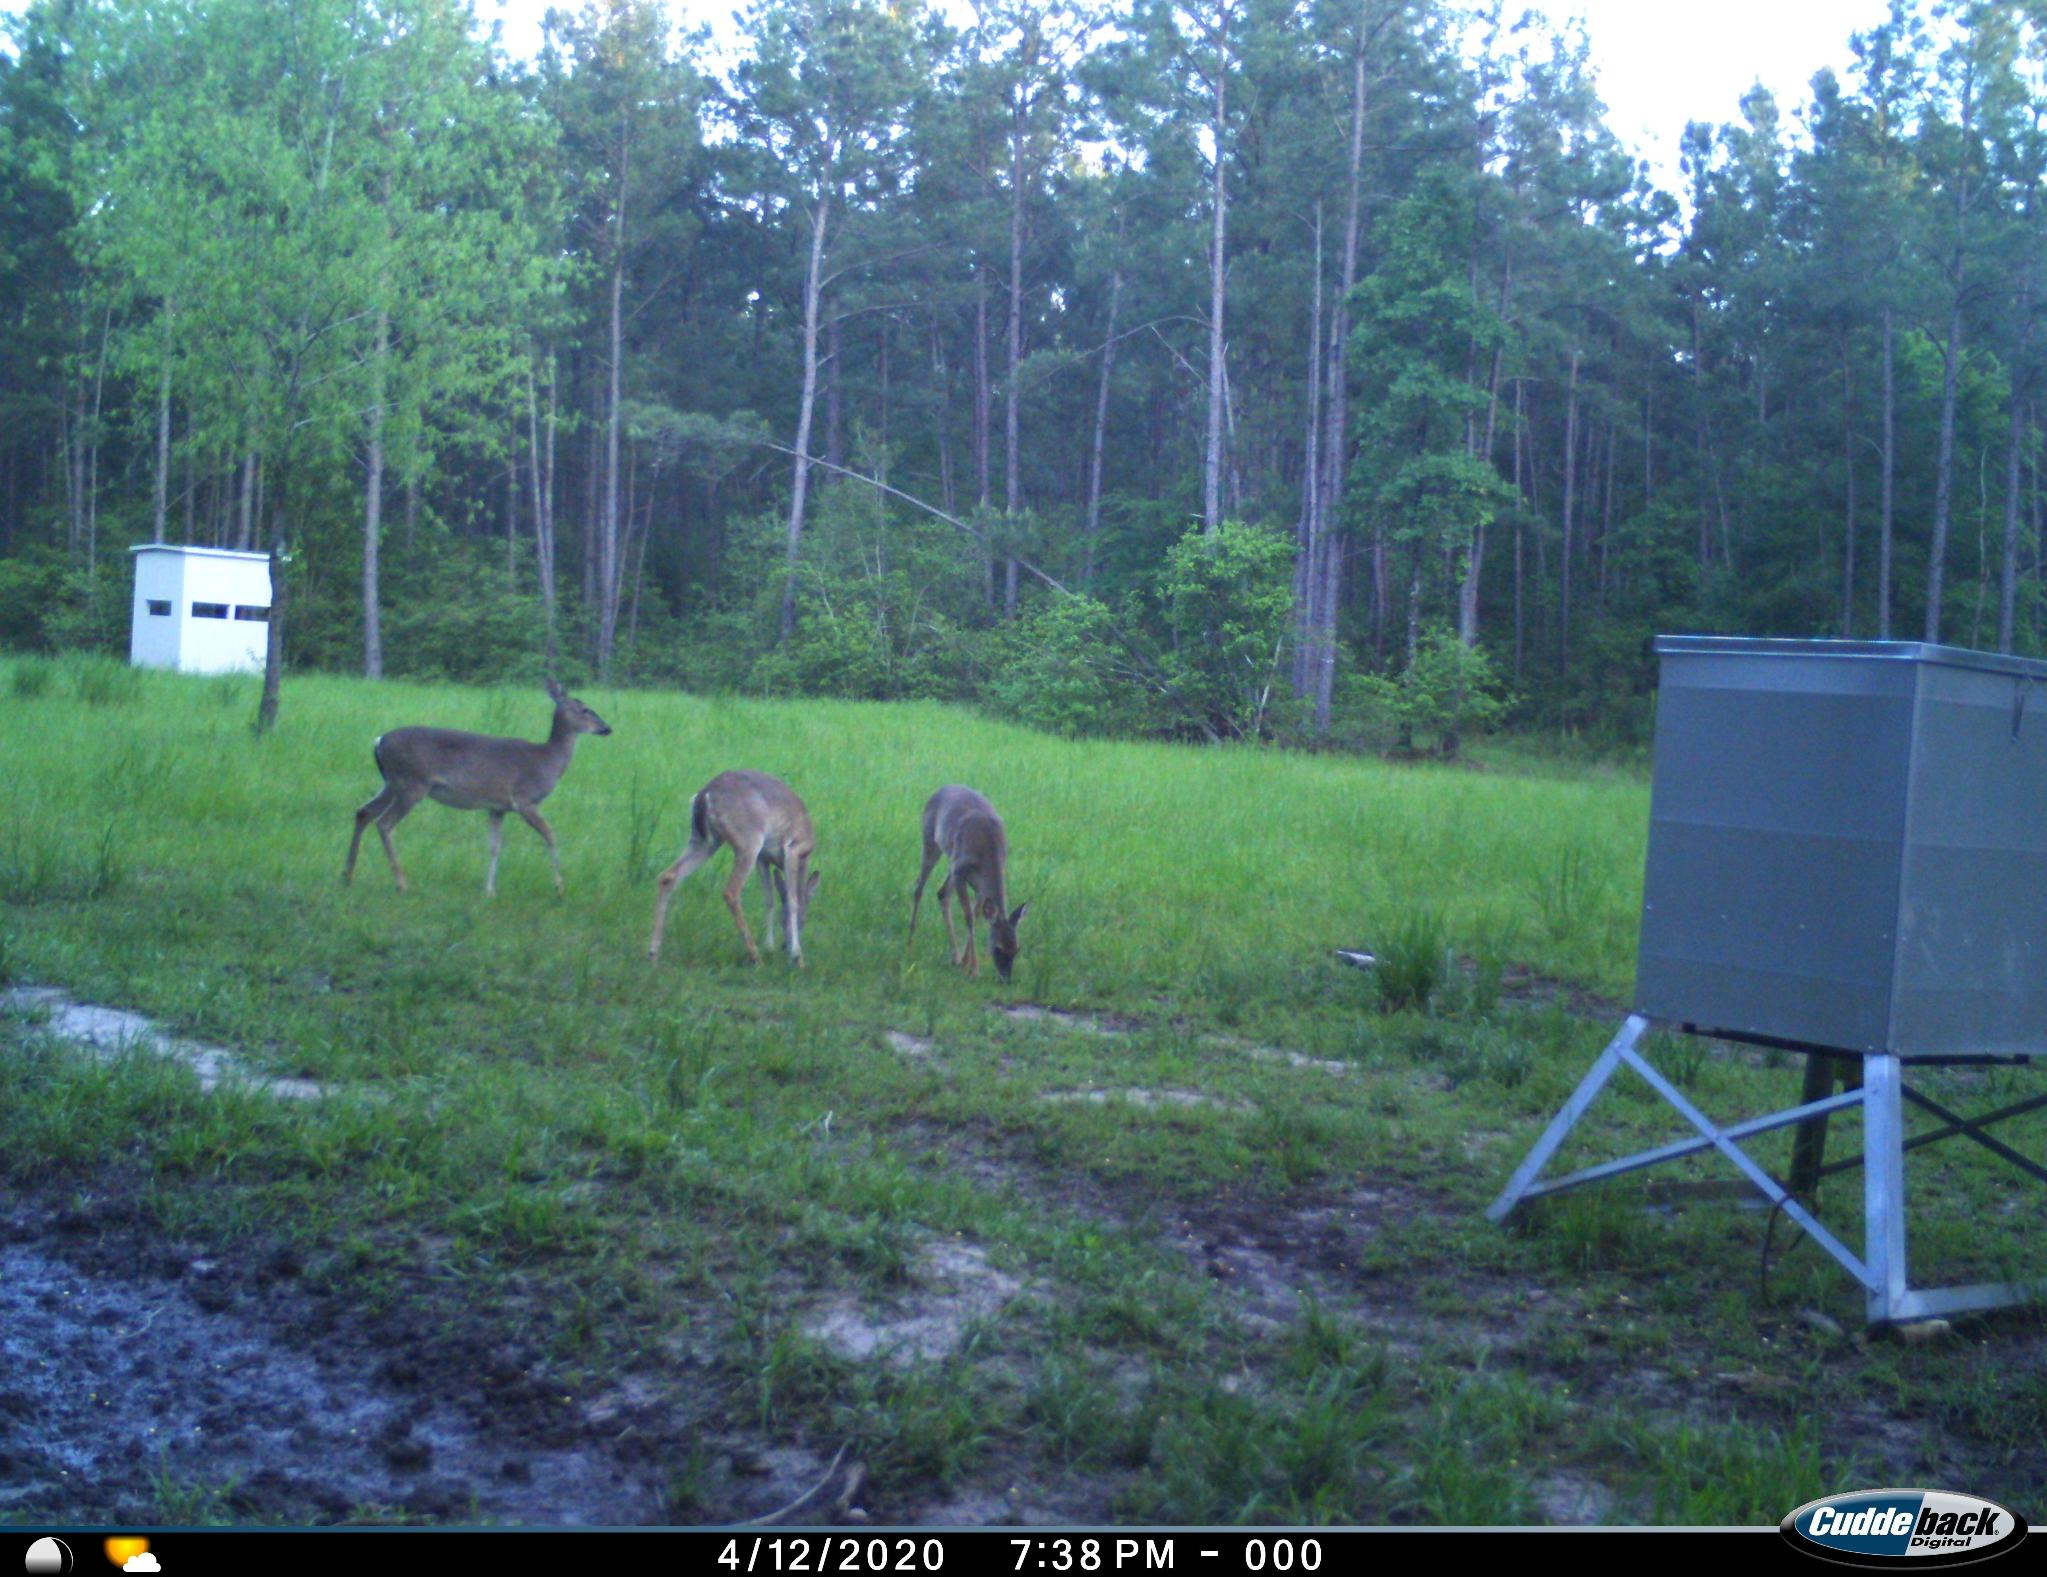Deer: (336, 671, 628, 913), (636, 764, 828, 982), (906, 780, 1043, 986)
